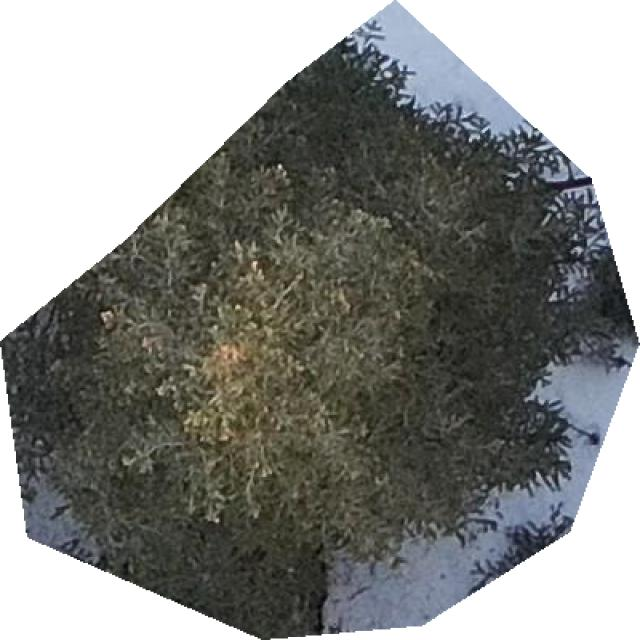spruce: (0, 14, 638, 638)
